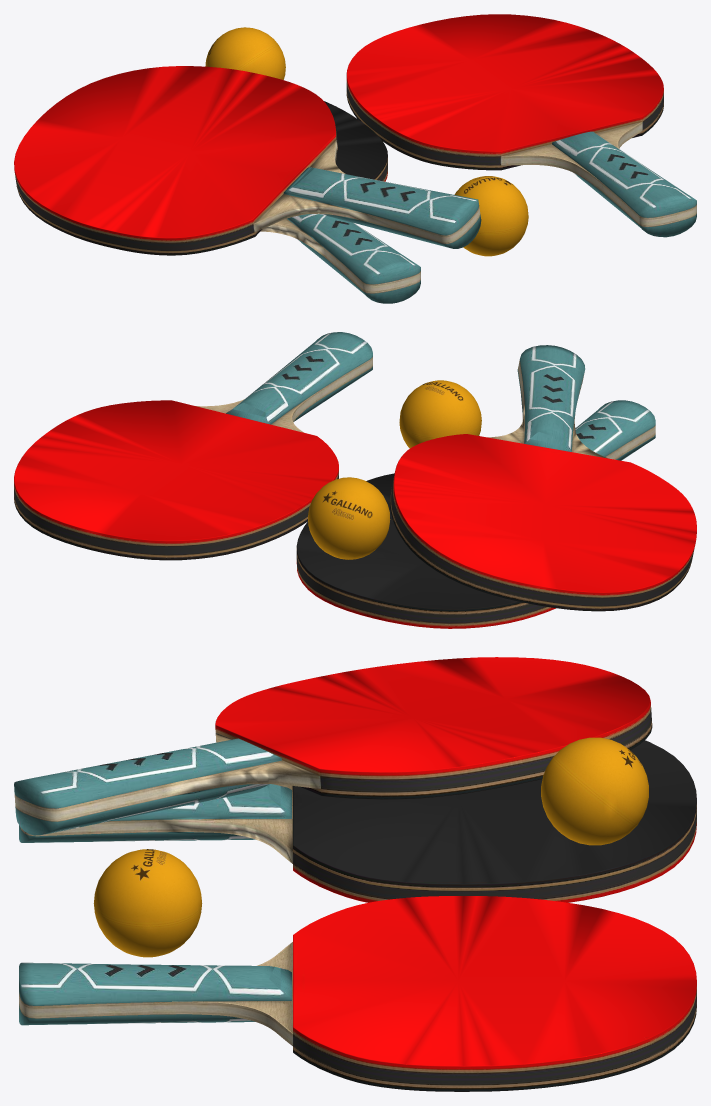
The model's file is sf_tt_rackets.glb.
The picture shows the model from 3 angles, top to bottom: view 1: azimuth 30°, elevation 25°; view 2: azimuth 150°, elevation 25°; view 3: azimuth 270°, elevation 25°; orthographic projection. The views are drawn at different scales.
Visible parts, largest first — view 1: SM_PingPongPaddle_Show_M_PingPongPaddle_0; view 2: SM_PingPongPaddle_Show_M_PingPongPaddle_0; view 3: SM_PingPongPaddle_Show_M_PingPongPaddle_0.
Part boxes in pixels (<box>): SM_PingPongPaddle_Show_M_PingPongPaddle_0: <box>14,14,696,303</box>; SM_PingPongPaddle_Show_M_PingPongPaddle_0: <box>14,332,696,628</box>; SM_PingPongPaddle_Show_M_PingPongPaddle_0: <box>14,657,696,1091</box>.
Size of the model in its own units: 0.33 by 0.0616 by 0.2388.
Materials: 2 (2 with a texture image).
